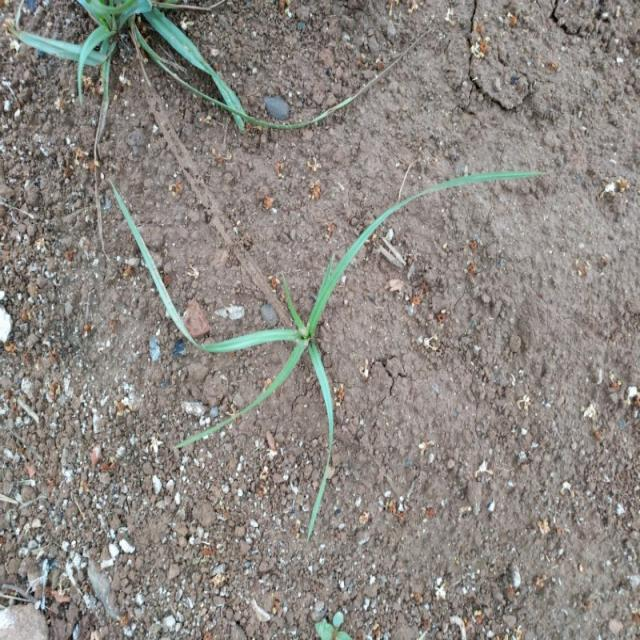sedge: (113, 151, 515, 509)
